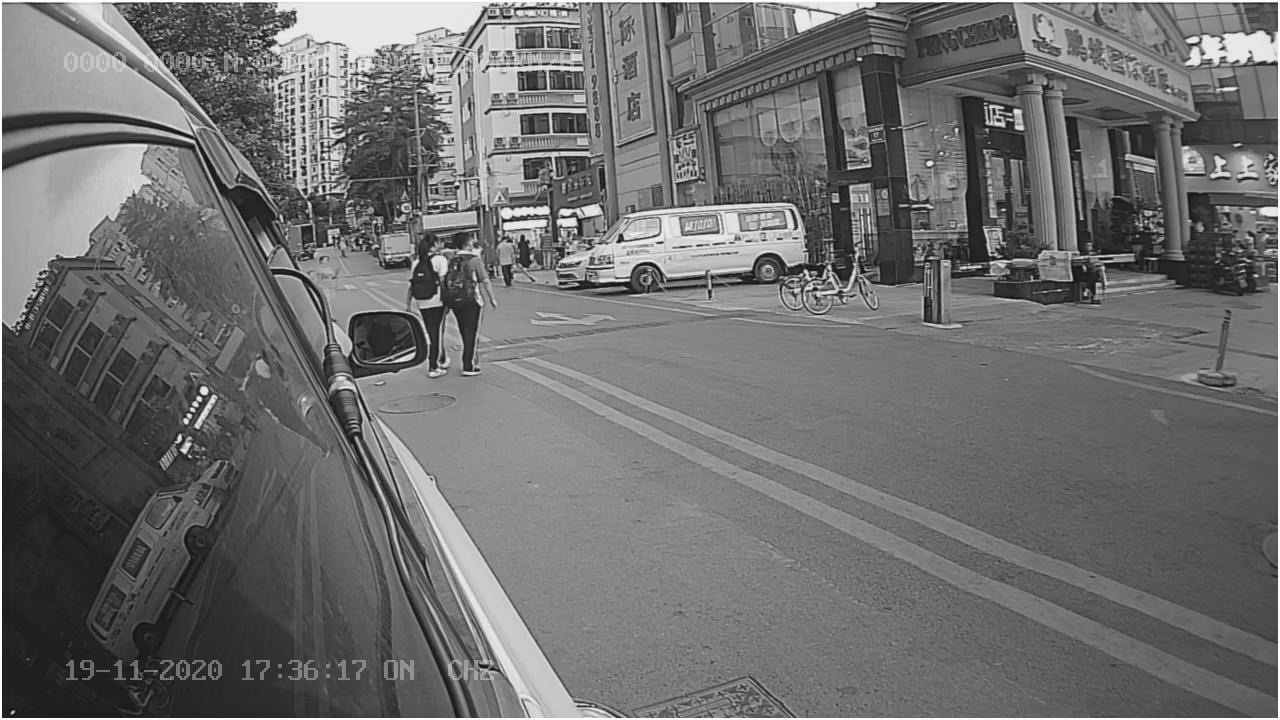person: (445, 231, 513, 364)
